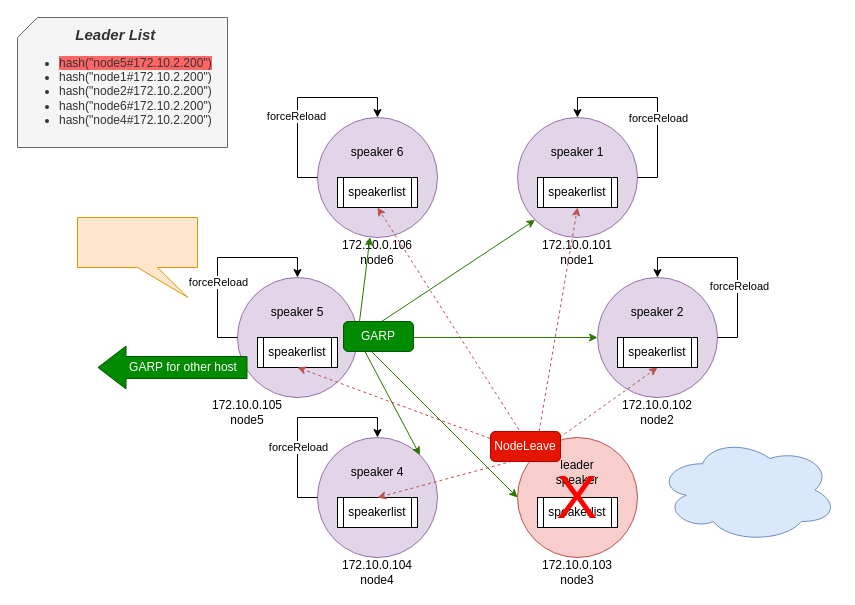
The diagram is 855 pixels wide and 605 high, and some of its shapes have lost their labels. Here are the shapes that lost their labels. From the top down, the centre of each, then its label:
[137,257]: I will be the new leader speaker!
[747,489]: Service LB IP: 172.10.2.200
